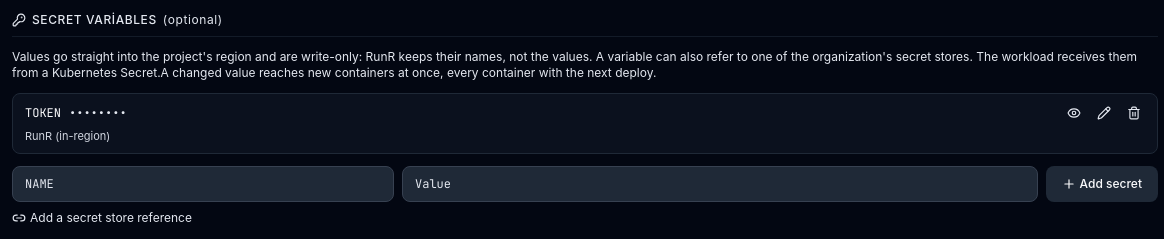
Test: SecretEnvVarsEditor — project mode (edit project) › reveals a value only for users who may view values
Click the button with test id "secret-reveal-TOKEN".
click(1074, 113)  # box left=1063, top=102, right=1085, bottom=124
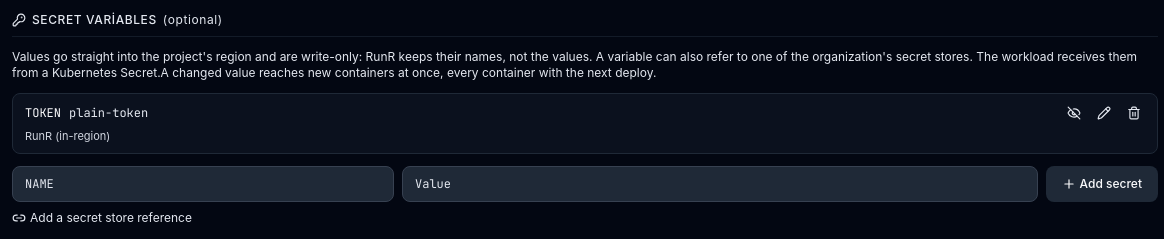
Result: the text with test id "secret-value-TOKEN" reads "plain-token" at left=69, top=105, right=148, bottom=121
Click the button with test id "secret-reveal-TOKEN".
click(1074, 113)  # box left=1063, top=102, right=1085, bottom=124
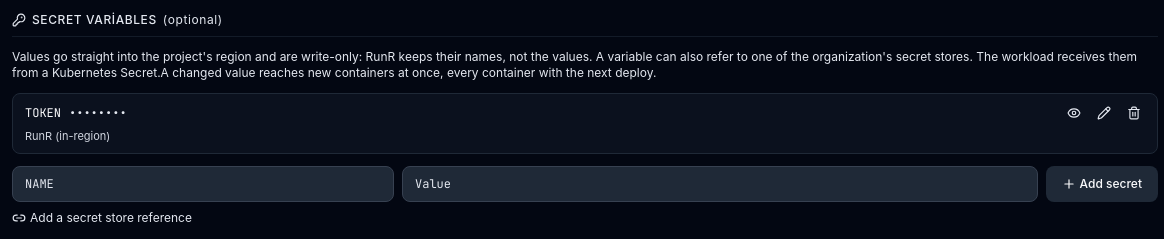
Result: the text with test id "secret-value-TOKEN" reads "••••••••" at left=69, top=105, right=127, bottom=121
